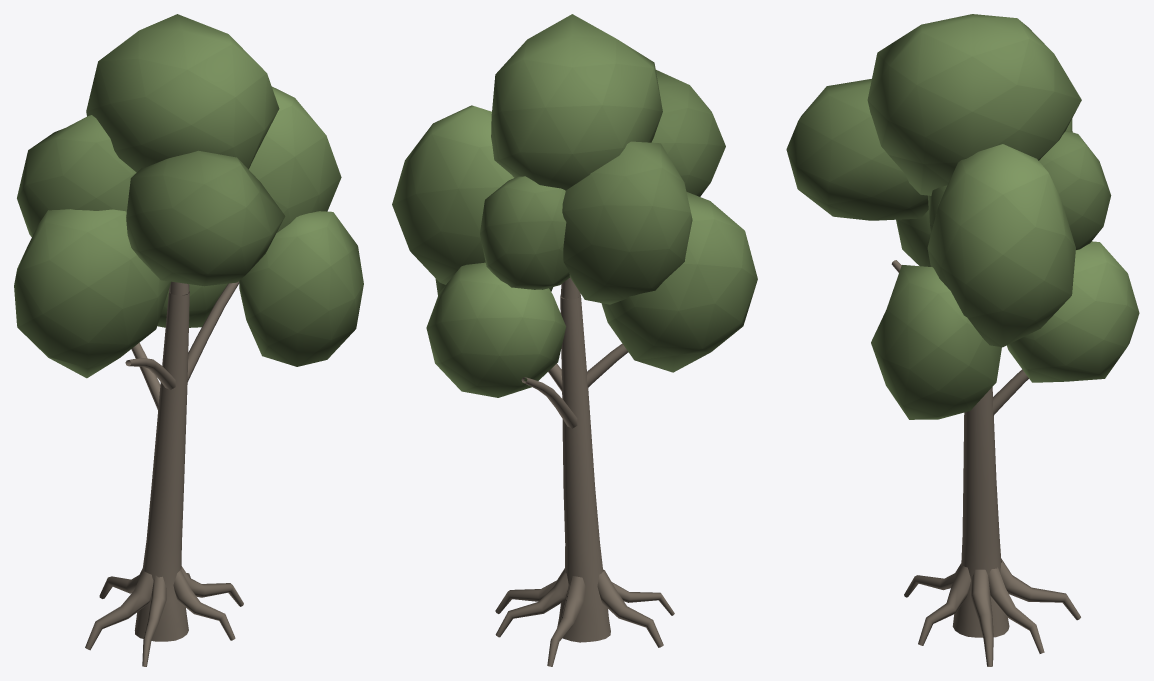
File: decid_b.glb
The picture shows the model from 3 angles, left to right: view 1: azimuth 30°, elevation 25°; view 2: azimuth 150°, elevation 25°; view 3: azimuth 270°, elevation 25°; orthographic projection. The views are drawn at different scales.
Parts seen in each view (by area): view 1: decid_b; view 2: decid_b; view 3: decid_b.
Part boxes in pixels (left/top/right/bottom): decid_b: left=14, top=14, right=363, bottom=666; decid_b: left=392, top=14, right=757, bottom=666; decid_b: left=786, top=14, right=1139, bottom=666.
Bounding box in the file's own units: 4.69 × 8.18 × 4.25.
